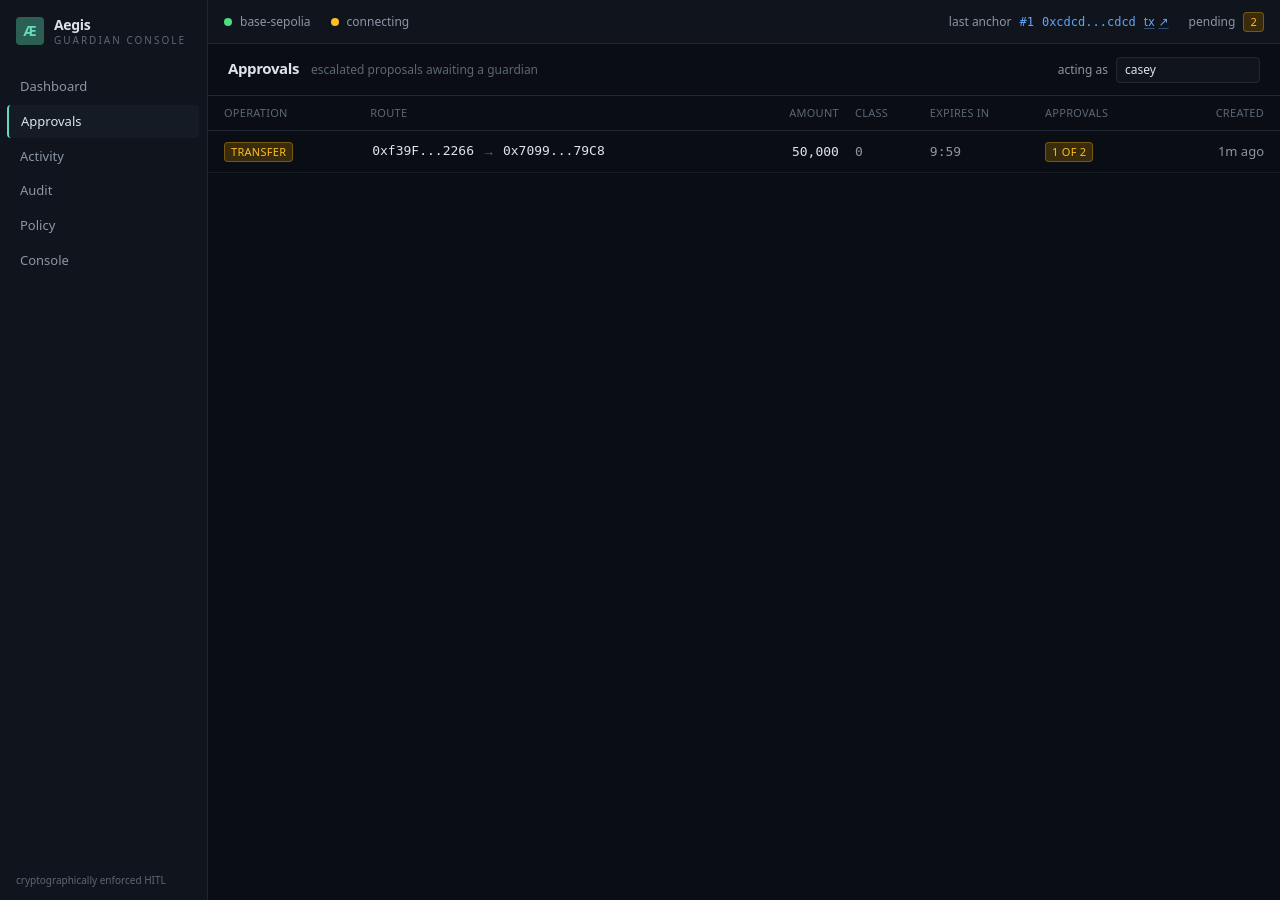
ApprovalsPage › shows dual-control progress and keeps the drawer open after the first approval
The image size is (1280, 900).
Expected: the text "1 of 2" is shown, [1045,142,1093,162]
Click the row with test id "proposal-dec-1" at (744, 152), box [208,130,1279,173]
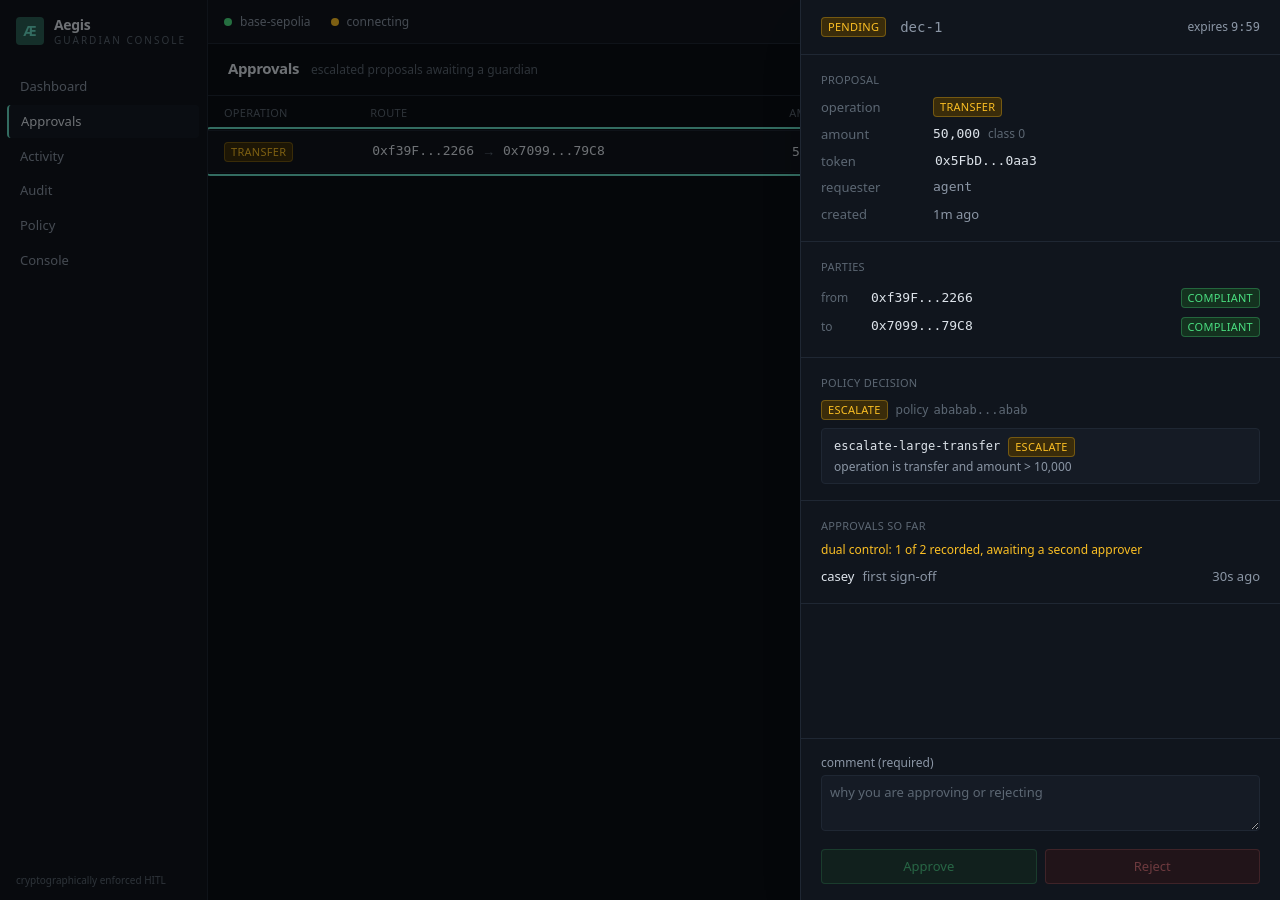
Now the text "dual control: 1 of 2 recorded, awaiting a second approver" is shown, box [821,541,1142,558]
Now the text "first sign-off" is shown, box [862,566,937,587]
